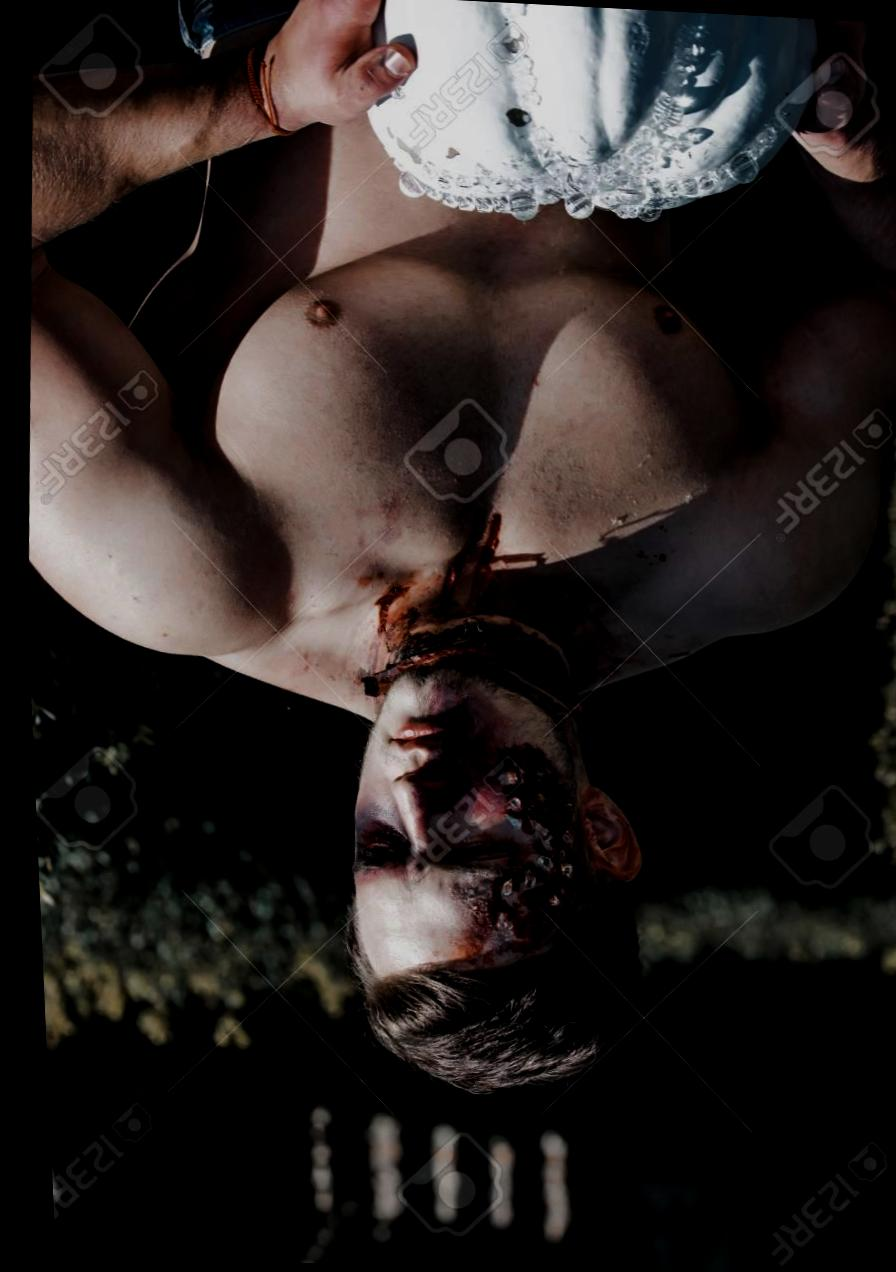Fire: (338, 496, 635, 717), (413, 750, 572, 930)
